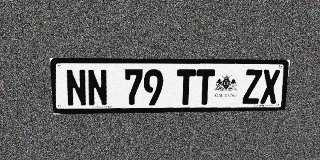7: (123, 69, 143, 106)
9: (144, 69, 163, 106)
N: (65, 69, 87, 107), (87, 69, 108, 106)
T: (176, 69, 196, 105), (195, 69, 215, 105)
X: (260, 69, 280, 104)
Z: (242, 69, 262, 104)
